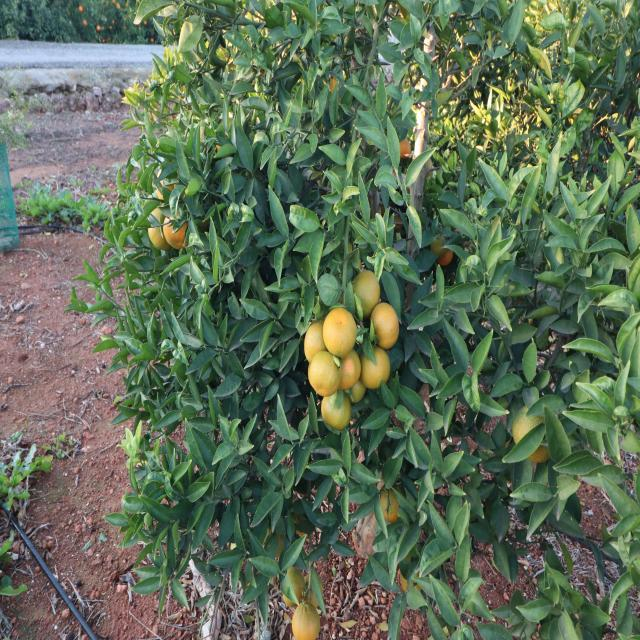Jeruk Belum Matang: (514, 408, 551, 462), (321, 394, 354, 431), (352, 269, 380, 306), (292, 606, 320, 640), (148, 208, 170, 250), (284, 564, 306, 594), (380, 490, 400, 520), (347, 382, 366, 402)
Jeruk Sudah Matang: (324, 308, 358, 354), (309, 356, 342, 396), (373, 304, 400, 346), (364, 352, 392, 387), (304, 322, 324, 360), (342, 353, 363, 385), (168, 220, 191, 247), (438, 248, 455, 266), (399, 140, 414, 158), (330, 76, 340, 92), (76, 4, 85, 12)
